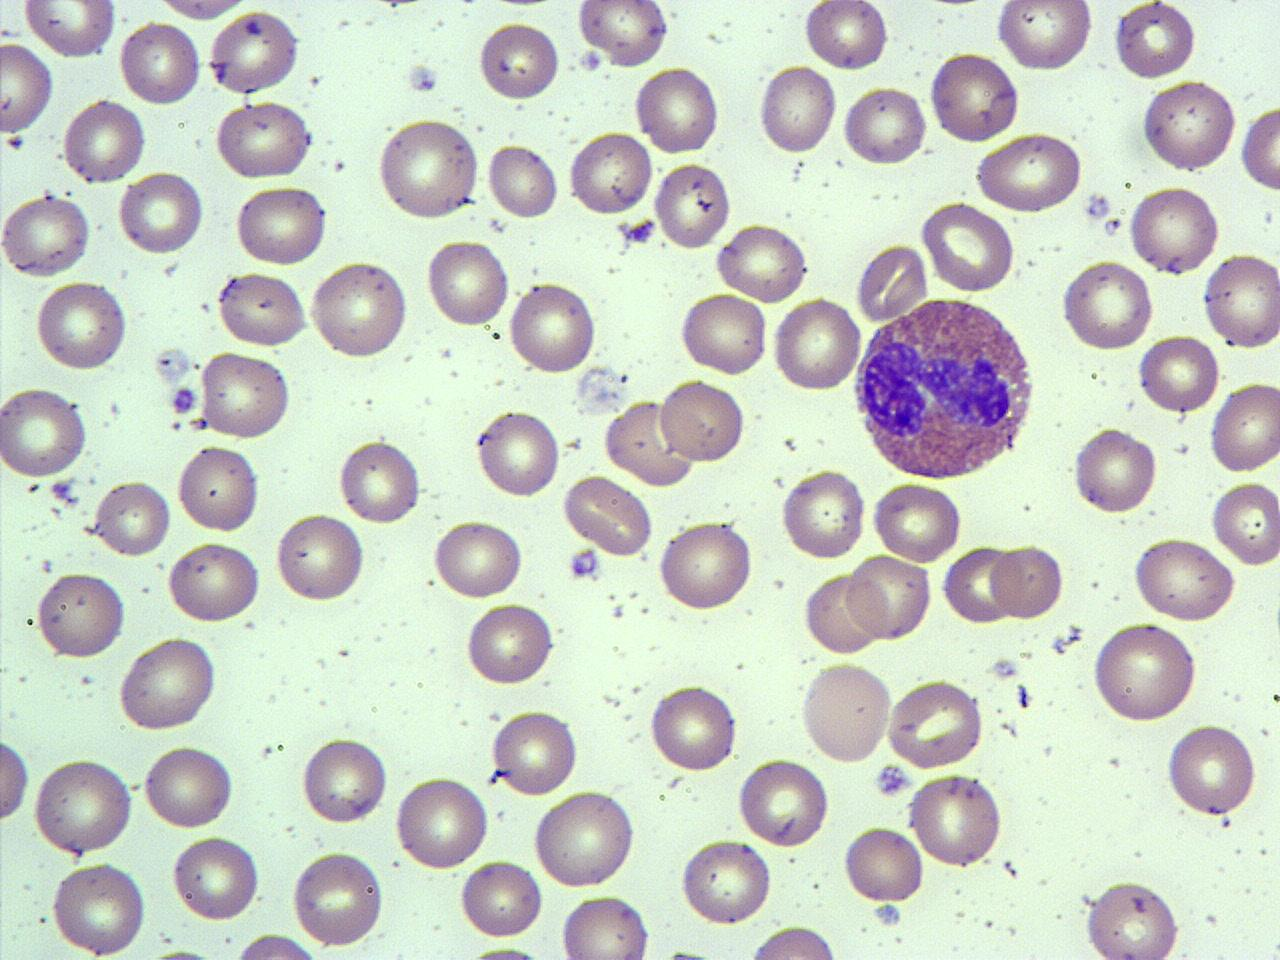Platelets: (464, 940, 550, 960), (566, 544, 603, 581), (404, 62, 440, 95), (622, 217, 657, 244), (170, 386, 199, 417), (990, 656, 1019, 681), (1014, 682, 1031, 708), (1266, 936, 1280, 960), (172, 418, 187, 430)
RBC: (1088, 620, 1202, 726), (374, 115, 482, 223), (530, 788, 639, 890), (29, 756, 137, 856), (797, 658, 894, 768), (307, 258, 411, 360), (115, 634, 220, 734), (287, 848, 388, 950), (907, 770, 1008, 872), (392, 772, 494, 872), (48, 857, 151, 956), (1130, 534, 1238, 626), (1138, 77, 1238, 175), (654, 517, 754, 615), (1164, 721, 1260, 819), (974, 131, 1086, 215), (1057, 258, 1157, 352), (31, 279, 131, 373), (918, 197, 1016, 292), (887, 676, 986, 770), (676, 836, 775, 930), (926, 50, 1022, 145), (771, 295, 863, 394), (736, 756, 832, 850), (1125, 184, 1223, 276), (140, 741, 238, 833), (204, 8, 305, 97), (1081, 874, 1185, 960), (273, 511, 368, 605), (168, 832, 265, 924), (196, 350, 296, 439), (507, 280, 599, 376), (647, 680, 740, 774), (0, 187, 93, 281), (488, 706, 583, 798), (778, 465, 868, 562), (32, 571, 129, 661), (602, 396, 698, 486), (473, 404, 562, 501), (164, 540, 264, 626), (656, 374, 748, 467), (300, 734, 391, 828), (462, 599, 557, 689), (0, 384, 89, 480), (714, 220, 814, 305), (844, 552, 936, 644), (1069, 424, 1161, 516), (233, 183, 332, 268), (431, 516, 528, 602), (1200, 250, 1280, 353), (175, 441, 263, 534), (634, 64, 722, 157), (424, 236, 510, 331), (214, 99, 314, 180), (115, 169, 207, 257), (677, 291, 771, 377), (560, 473, 655, 558), (869, 480, 964, 564), (755, 62, 838, 158), (117, 19, 206, 108), (337, 436, 425, 526), (214, 268, 310, 350), (457, 854, 545, 942), (567, 129, 654, 217), (652, 159, 733, 253), (62, 96, 147, 185), (992, 0, 1097, 72), (1136, 331, 1222, 417), (842, 84, 928, 168), (798, 570, 882, 655), (1208, 379, 1280, 477), (478, 18, 561, 103), (1112, 0, 1198, 82), (91, 476, 174, 560), (840, 823, 924, 906), (556, 889, 654, 960), (574, 0, 670, 68), (988, 540, 1066, 622), (484, 139, 561, 222), (800, 0, 890, 71), (941, 542, 1017, 626), (1209, 477, 1279, 568), (854, 242, 928, 324), (20, 0, 117, 60), (0, 38, 57, 137), (1238, 103, 1280, 195), (742, 924, 848, 960), (228, 929, 332, 960), (0, 730, 31, 828), (148, 0, 261, 24)
WBC: (850, 291, 1042, 485)
